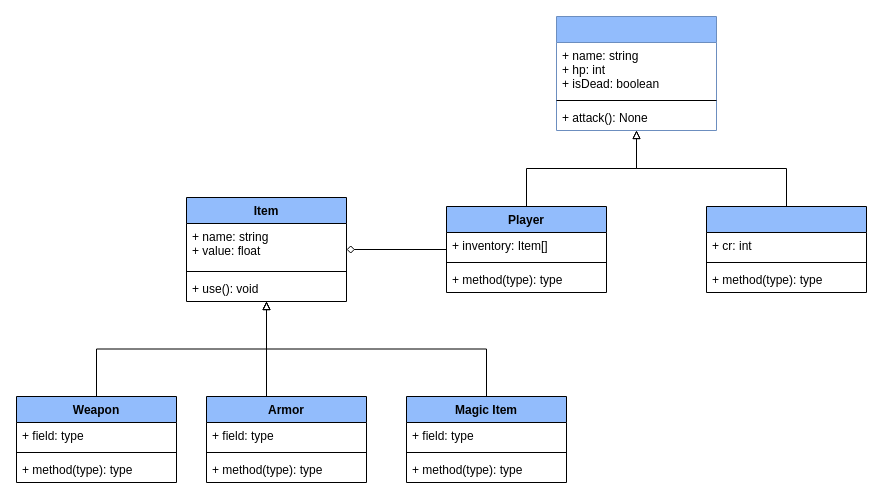
Image size: 883x499. Some labels were removed from this diagram. The box of each missing label's shape, as (x1, y1, x2, y2) in pixels:
Character: (556, 16, 716, 130)
Monster: (706, 206, 866, 292)
